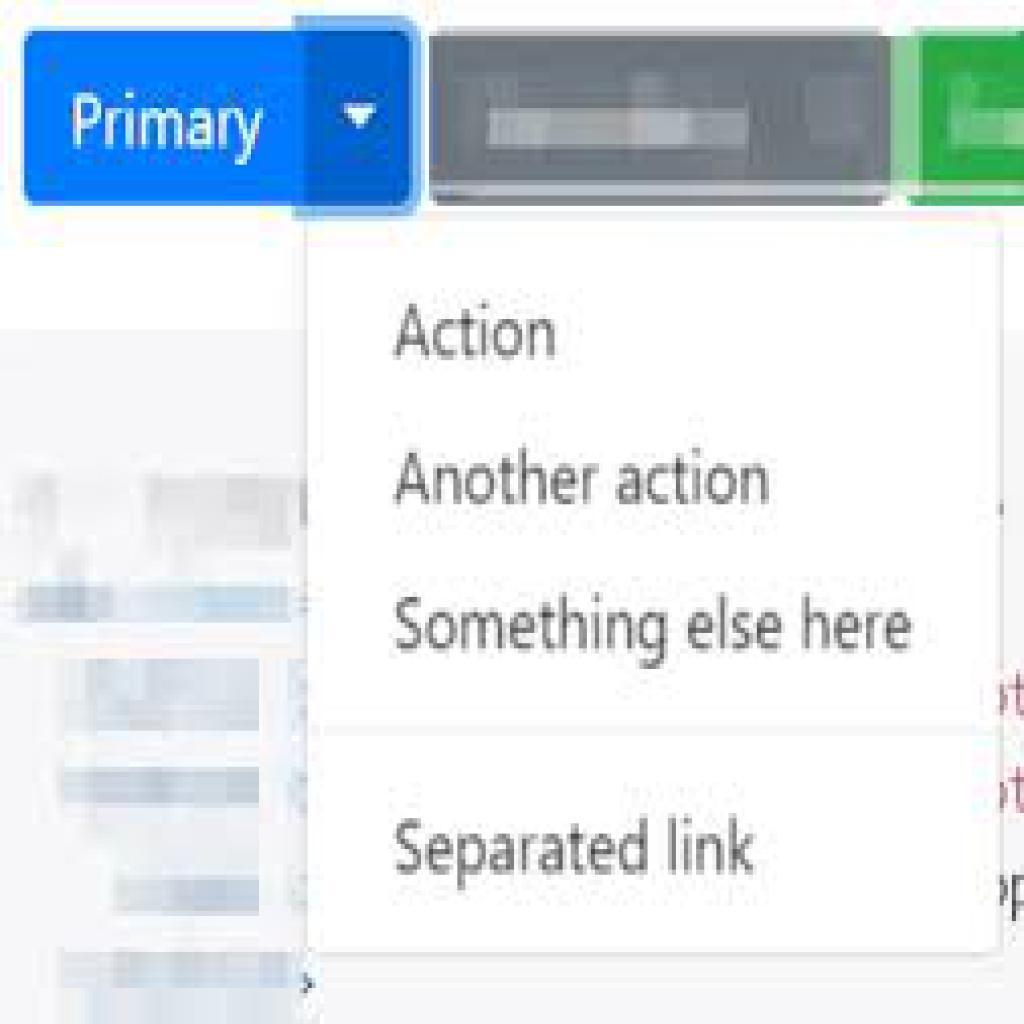button: (429, 34, 894, 206)
dropdown: (24, 29, 413, 206)
